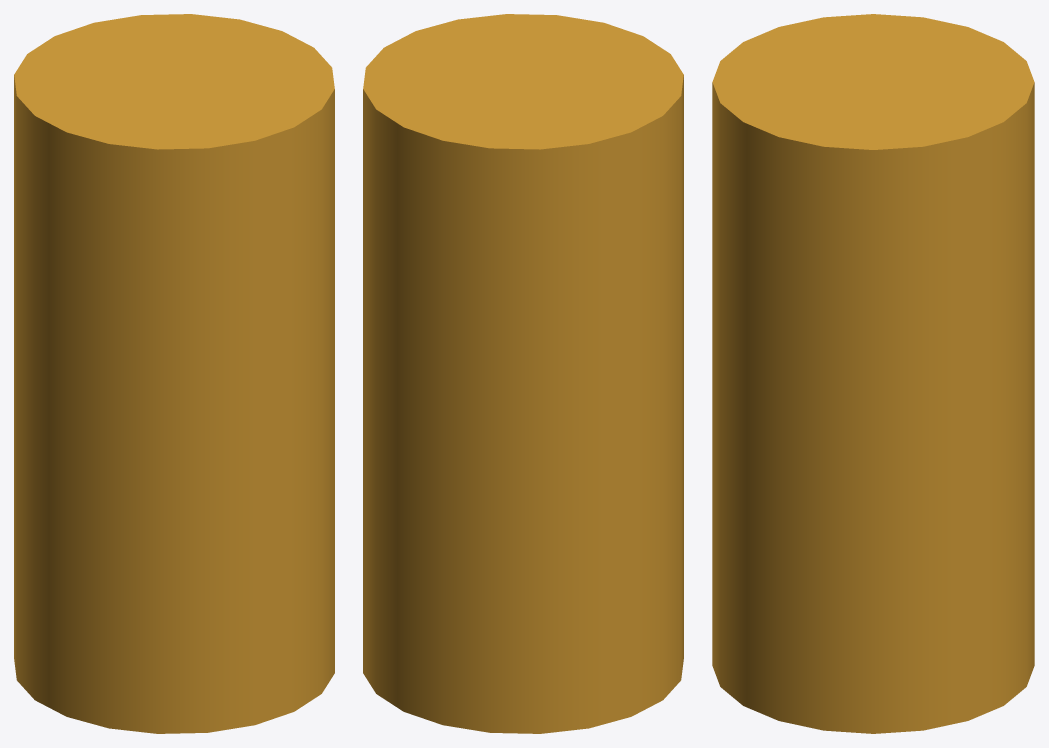
Rendered from Golden Cylinder.fbx.
3 views of the same model, side by side, from view 1: azimuth 30°, elevation 25°; view 2: azimuth 150°, elevation 25°; view 3: azimuth 270°, elevation 25° (orthographic).
Parts seen in each view (by area): view 1: Golden_Cylinder; view 2: Golden_Cylinder; view 3: Golden_Cylinder.
Part boxes in pixels (x1,y1,x2,y2): Golden_Cylinder: (14, 14, 334, 733); Golden_Cylinder: (363, 14, 683, 733); Golden_Cylinder: (712, 14, 1034, 733).
Size of the model in its own units: 100 by 200 by 100.
